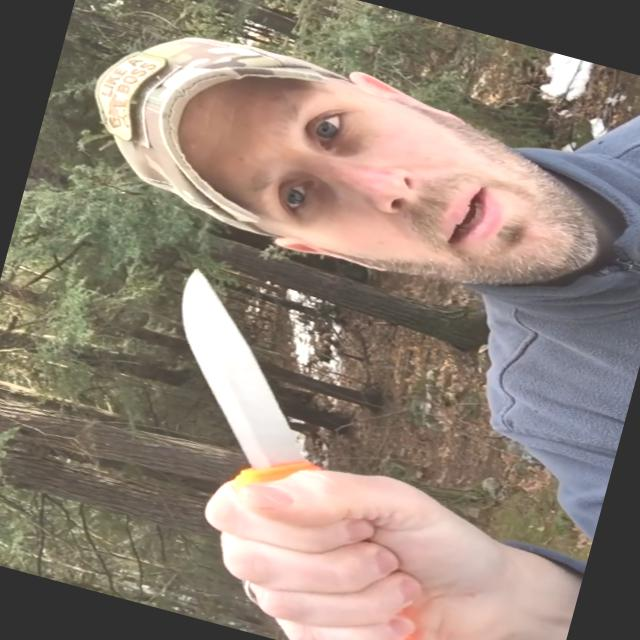knife: (97, 250, 452, 616)
